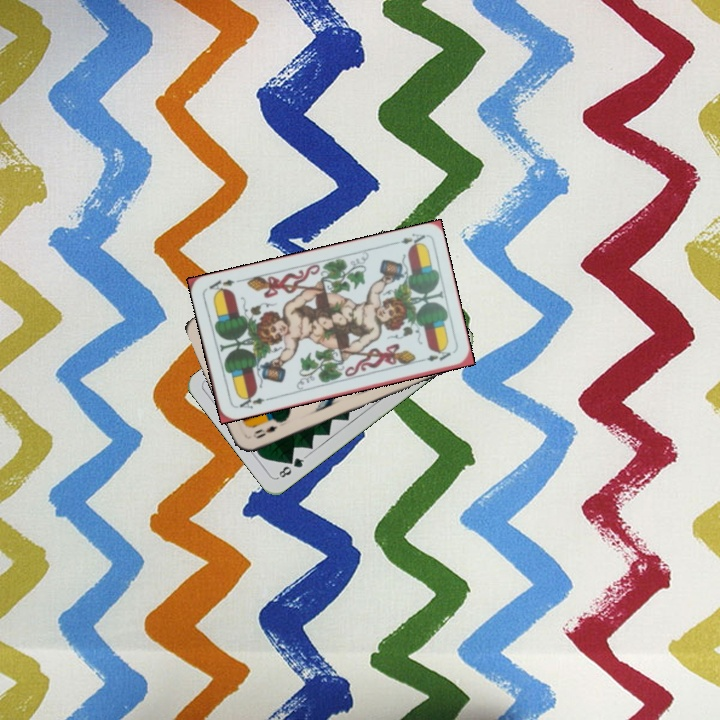EA: (232, 390, 272, 412), (388, 229, 428, 250)
EO: (249, 421, 280, 441)
G8: (274, 452, 309, 481)
